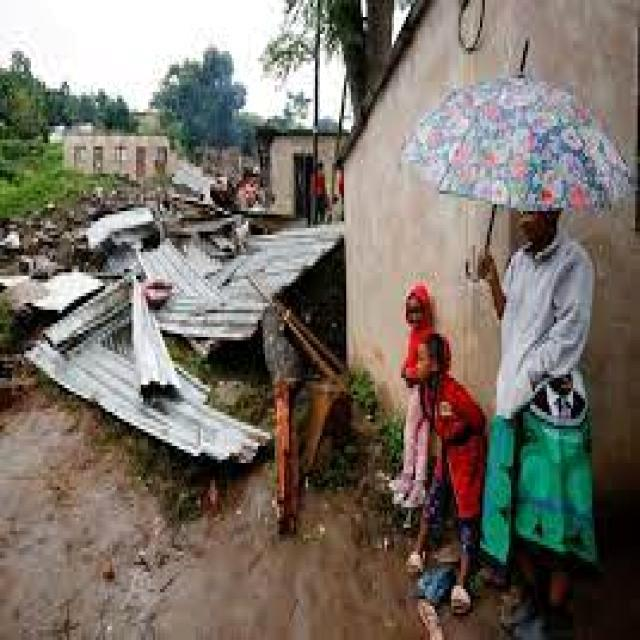civilian: (484, 193, 614, 640), (408, 330, 489, 606), (386, 281, 436, 517), (317, 158, 332, 223)
